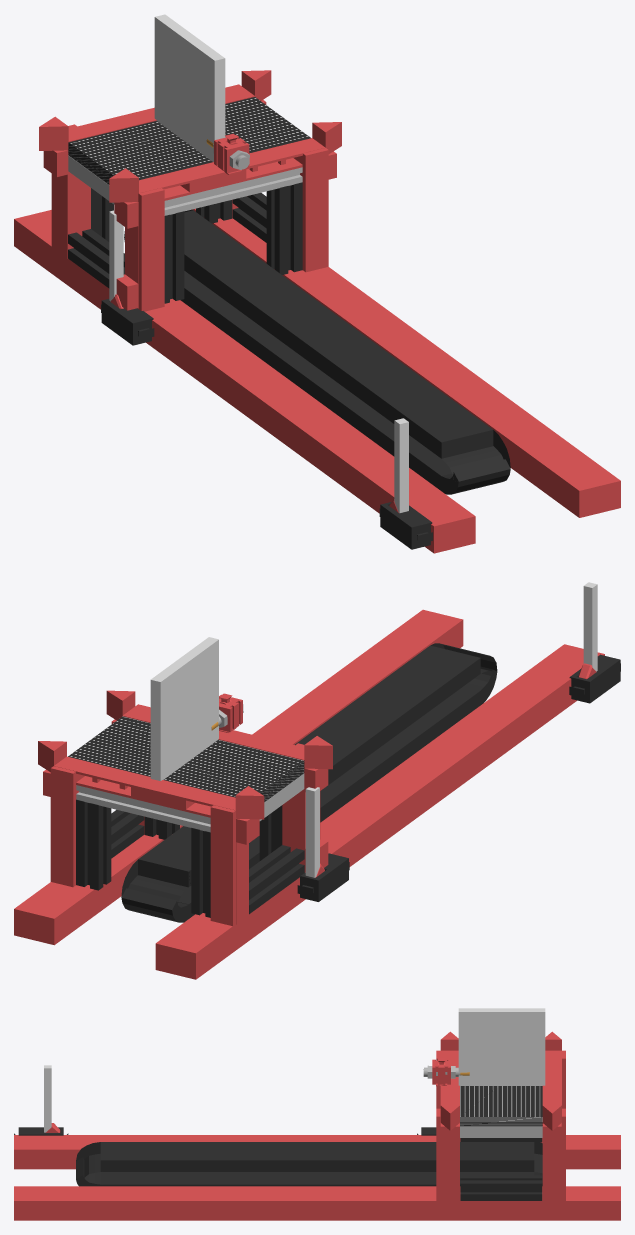
The model's file is Conveyor_Horizontal.glb.
3 renders of one model, top to bottom at view 1: azimuth 30°, elevation 25°; view 2: azimuth 150°, elevation 25°; view 3: azimuth 270°, elevation 25°, orthographic. The views are drawn at different scales.
Visible parts, largest first — view 1: Cube.003, Cube.005, Cube.004, Cube.006, Belt, TriggerZone, Cube.013, Cube.014, Cube.015, Conveyor, Cube.002, Cube.017 (+19 smaller); view 2: Cube.003, Cube.004, Cube.005, Belt, TriggerZone, Cube.006, Cube.022, Cube.011, Cube.018, Conveyor, Cube.016, Cube.023 (+22 smaller); view 3: Cube.004, Cube.005, TriggerZone, Cube.003, Cube.006, Belt, Cube.031, Cube.027, Cube.009, Cube.016, Conveyor, Cube.002 (+12 smaller).
Boxes of the visible parts, x1,y1,x2,y2 form: Cube.003: [14, 210, 475, 553]; Cube.005: [184, 210, 493, 458]; Cube.004: [192, 208, 620, 517]; Cube.006: [180, 271, 451, 490]; Belt: [68, 97, 310, 184]; TriggerZone: [154, 14, 225, 161]; Cube.013: [294, 148, 328, 272]; Cube.014: [138, 188, 164, 311]; Cube.015: [266, 182, 302, 274]; Conveyor: [68, 155, 302, 215]; Cube.002: [138, 138, 325, 195]; Cube.017: [164, 211, 184, 303]; Cube.003: [155, 644, 604, 979]; Cube.004: [14, 609, 463, 945]; Cube.005: [138, 645, 480, 887]; Belt: [68, 716, 304, 802]; TriggerZone: [150, 637, 218, 780]; Cube.006: [178, 686, 480, 918]; Cube.022: [50, 766, 84, 887]; Cube.011: [210, 805, 235, 926]; Cube.018: [76, 799, 111, 890]; Conveyor: [76, 773, 304, 832]; Cube.016: [54, 756, 235, 810]; Cube.023: [249, 845, 304, 914]; Cube.004: [14, 1186, 620, 1220]; Cube.005: [100, 1142, 534, 1171]; TriggerZone: [458, 1008, 545, 1085]; Cube.003: [14, 1135, 620, 1169]; Cube.006: [100, 1172, 534, 1186]; Belt: [460, 1086, 542, 1126]; Cube.031: [460, 1175, 542, 1200]; Cube.027: [542, 1123, 561, 1201]; Cube.009: [440, 1144, 459, 1201]; Cube.016: [542, 1050, 561, 1117]; Conveyor: [460, 1126, 542, 1137]; Cube.002: [440, 1050, 459, 1117].
Size of the model in its own units: 4.48 by 4.52 by 14.
Materials: 17 (1 with a texture image).
